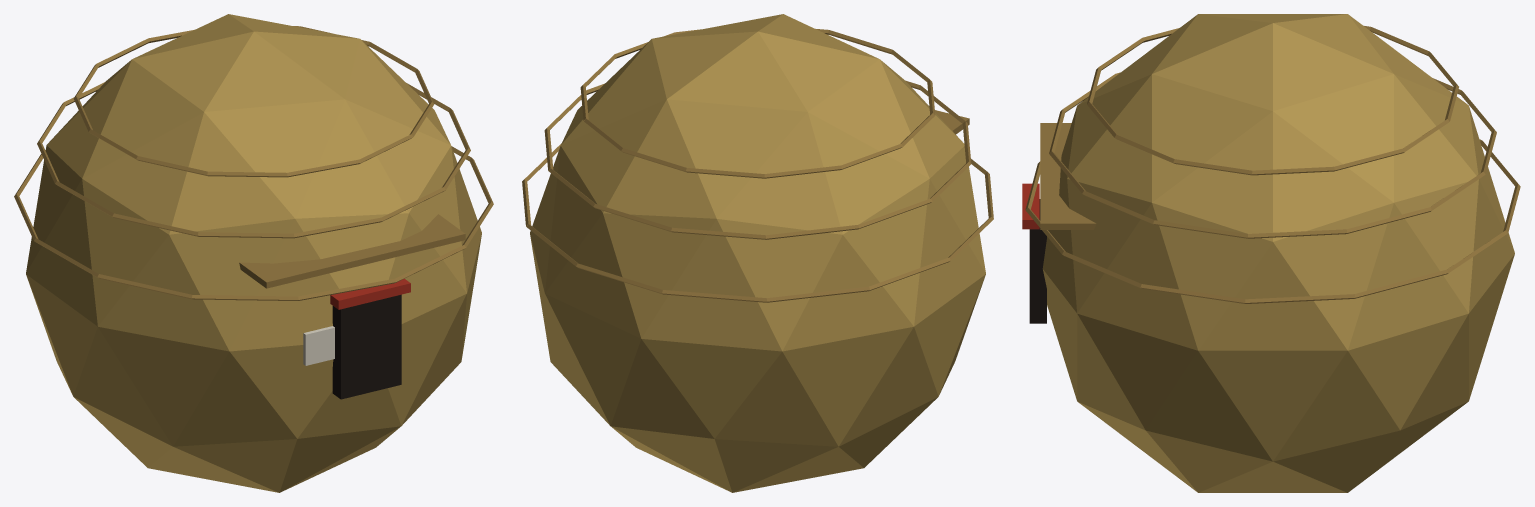
Rendered from elephant_hall.glb.
The picture shows the model from 3 angles, left to right: view 1: azimuth 30°, elevation 25°; view 2: azimuth 150°, elevation 25°; view 3: azimuth 270°, elevation 25°; orthographic projection. The views are drawn at different scales.
Parts seen in each view (by area): view 1: elephant_hall; view 2: elephant_hall; view 3: elephant_hall.
Boxes of the visible parts, x1=… form: elephant_hall: x1=14, y1=14, x2=493, y2=492; elephant_hall: x1=522, y1=14, x2=993, y2=492; elephant_hall: x1=1022, y1=14, x2=1520, y2=492.
Size of the model in its own units: 2.91 by 2.98 by 2.93.
